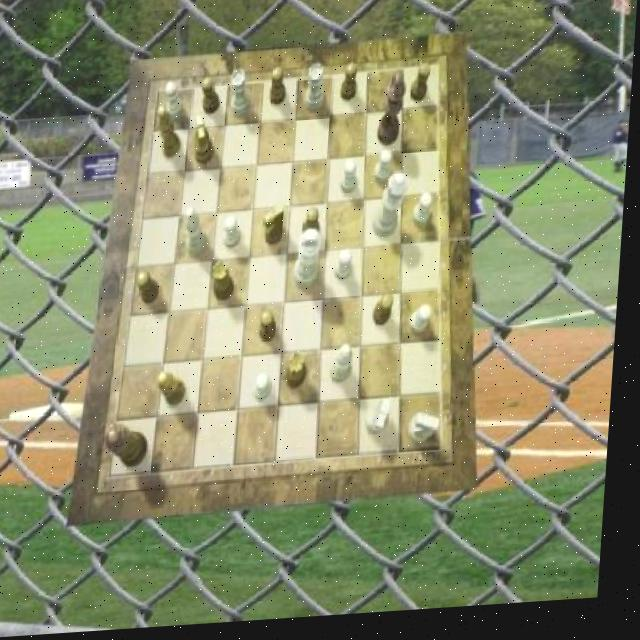bishop: (156, 107, 184, 162), (161, 374, 191, 410)
black-bishop: (379, 74, 407, 151)
black-king: (194, 116, 216, 168), (266, 209, 288, 250)
black-knight: (139, 272, 164, 307), (411, 68, 432, 107), (202, 79, 223, 117), (375, 300, 397, 333), (342, 67, 360, 106), (269, 71, 287, 110), (305, 211, 323, 246), (263, 314, 282, 347)
black-pawn: (109, 423, 156, 471)
black-queen: (214, 263, 239, 303), (291, 357, 313, 394)
black-rook: (186, 208, 211, 259), (335, 348, 359, 388)
white-bishop: (296, 233, 325, 295)
white-king: (414, 417, 446, 449), (370, 404, 396, 440)
white-knight: (165, 84, 186, 123), (415, 198, 436, 233), (375, 154, 394, 190), (414, 310, 437, 339), (226, 217, 245, 252), (343, 164, 361, 199), (339, 254, 358, 286), (259, 377, 278, 405)
white-pawn: (374, 176, 411, 243)
white-queen: (230, 73, 252, 120), (306, 69, 327, 116)
